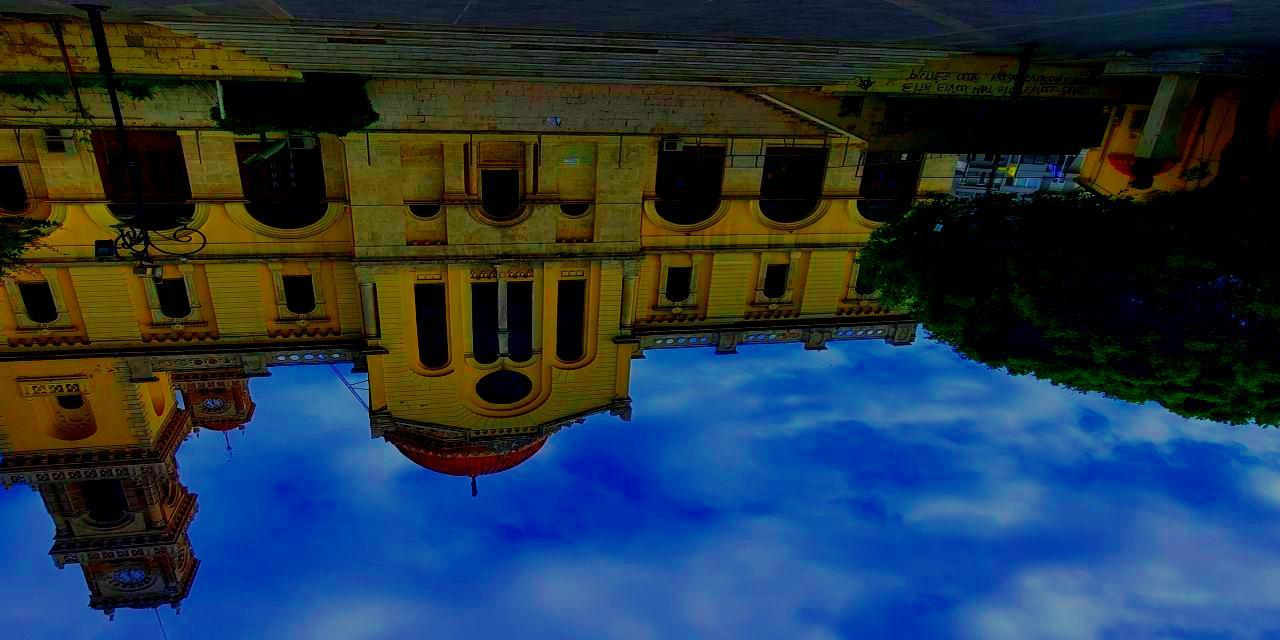Agios Minas: (1, 128, 961, 640)
